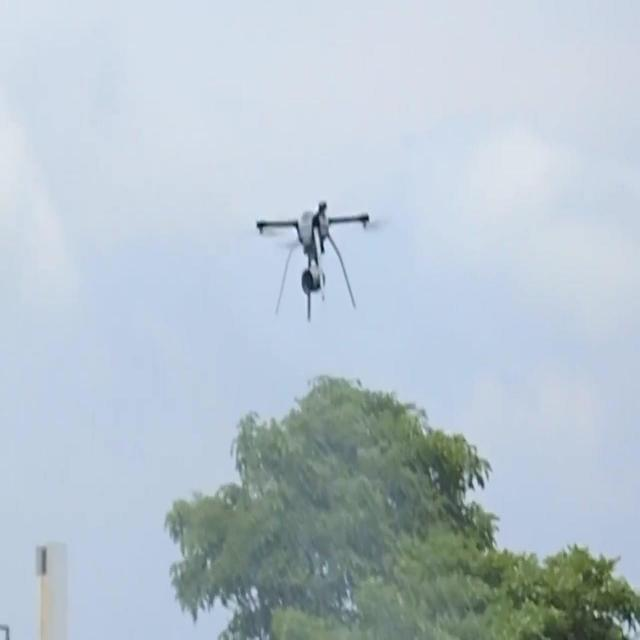UAV: (256, 201, 370, 322)
